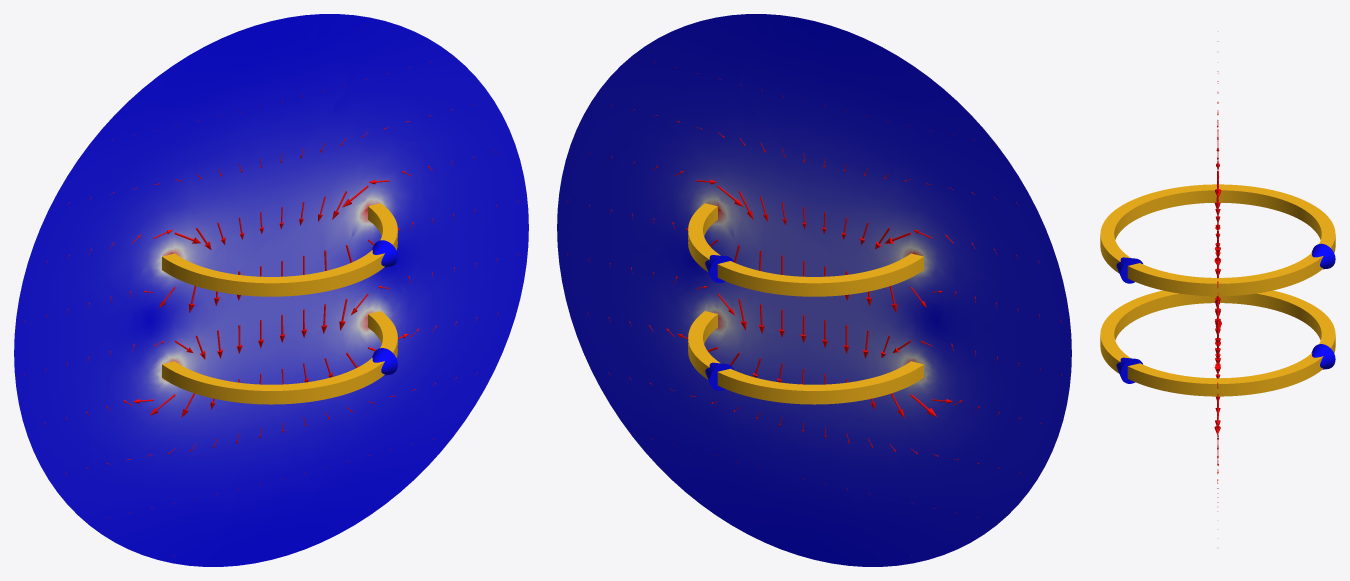
Rendered from helm.glb.
3 renders of one model, left to right at view 1: azimuth 30°, elevation 25°; view 2: azimuth 150°, elevation 25°; view 3: azimuth 270°, elevation 25°, orthographic. The views are drawn at different scales.
Size of the model in its own units: 2 by 2 by 0.85.
5 materials, 5 textured.
